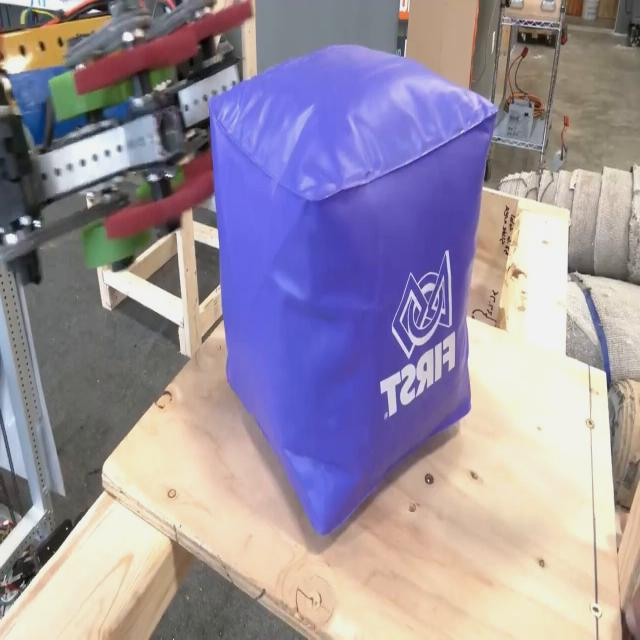frc_cube: (209, 39, 499, 531)
